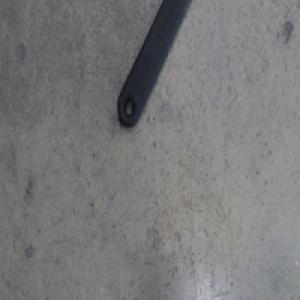AdjustableWrench: (116, 0, 187, 127)
